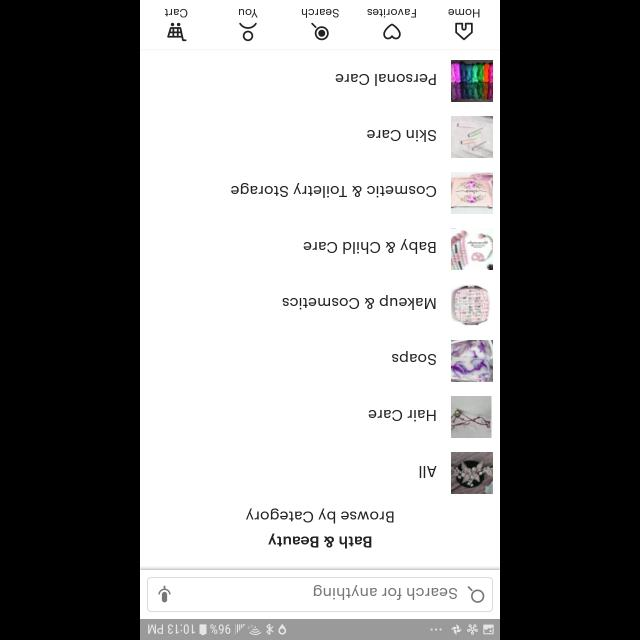icon: (166, 22, 186, 42), (239, 22, 257, 42), (455, 23, 473, 41), (311, 22, 329, 40), (383, 24, 401, 40), (468, 586, 484, 602), (157, 586, 170, 602)
image: (450, 452, 492, 494), (451, 340, 493, 382), (451, 228, 493, 270), (451, 172, 493, 214), (451, 116, 493, 158), (451, 60, 493, 102), (451, 396, 492, 438), (450, 285, 490, 325)
input: (148, 576, 492, 612)
text: (230, 182, 436, 198), (282, 294, 436, 310), (246, 508, 394, 524), (313, 584, 457, 600), (303, 238, 435, 254), (268, 532, 372, 548), (336, 74, 436, 86), (366, 130, 436, 142), (368, 409, 436, 421), (392, 351, 436, 365), (368, 8, 417, 18), (302, 9, 338, 19), (448, 8, 480, 18), (165, 8, 188, 18), (419, 466, 436, 478), (238, 8, 258, 18)
uppertaskbar: (140, 618, 500, 640)
